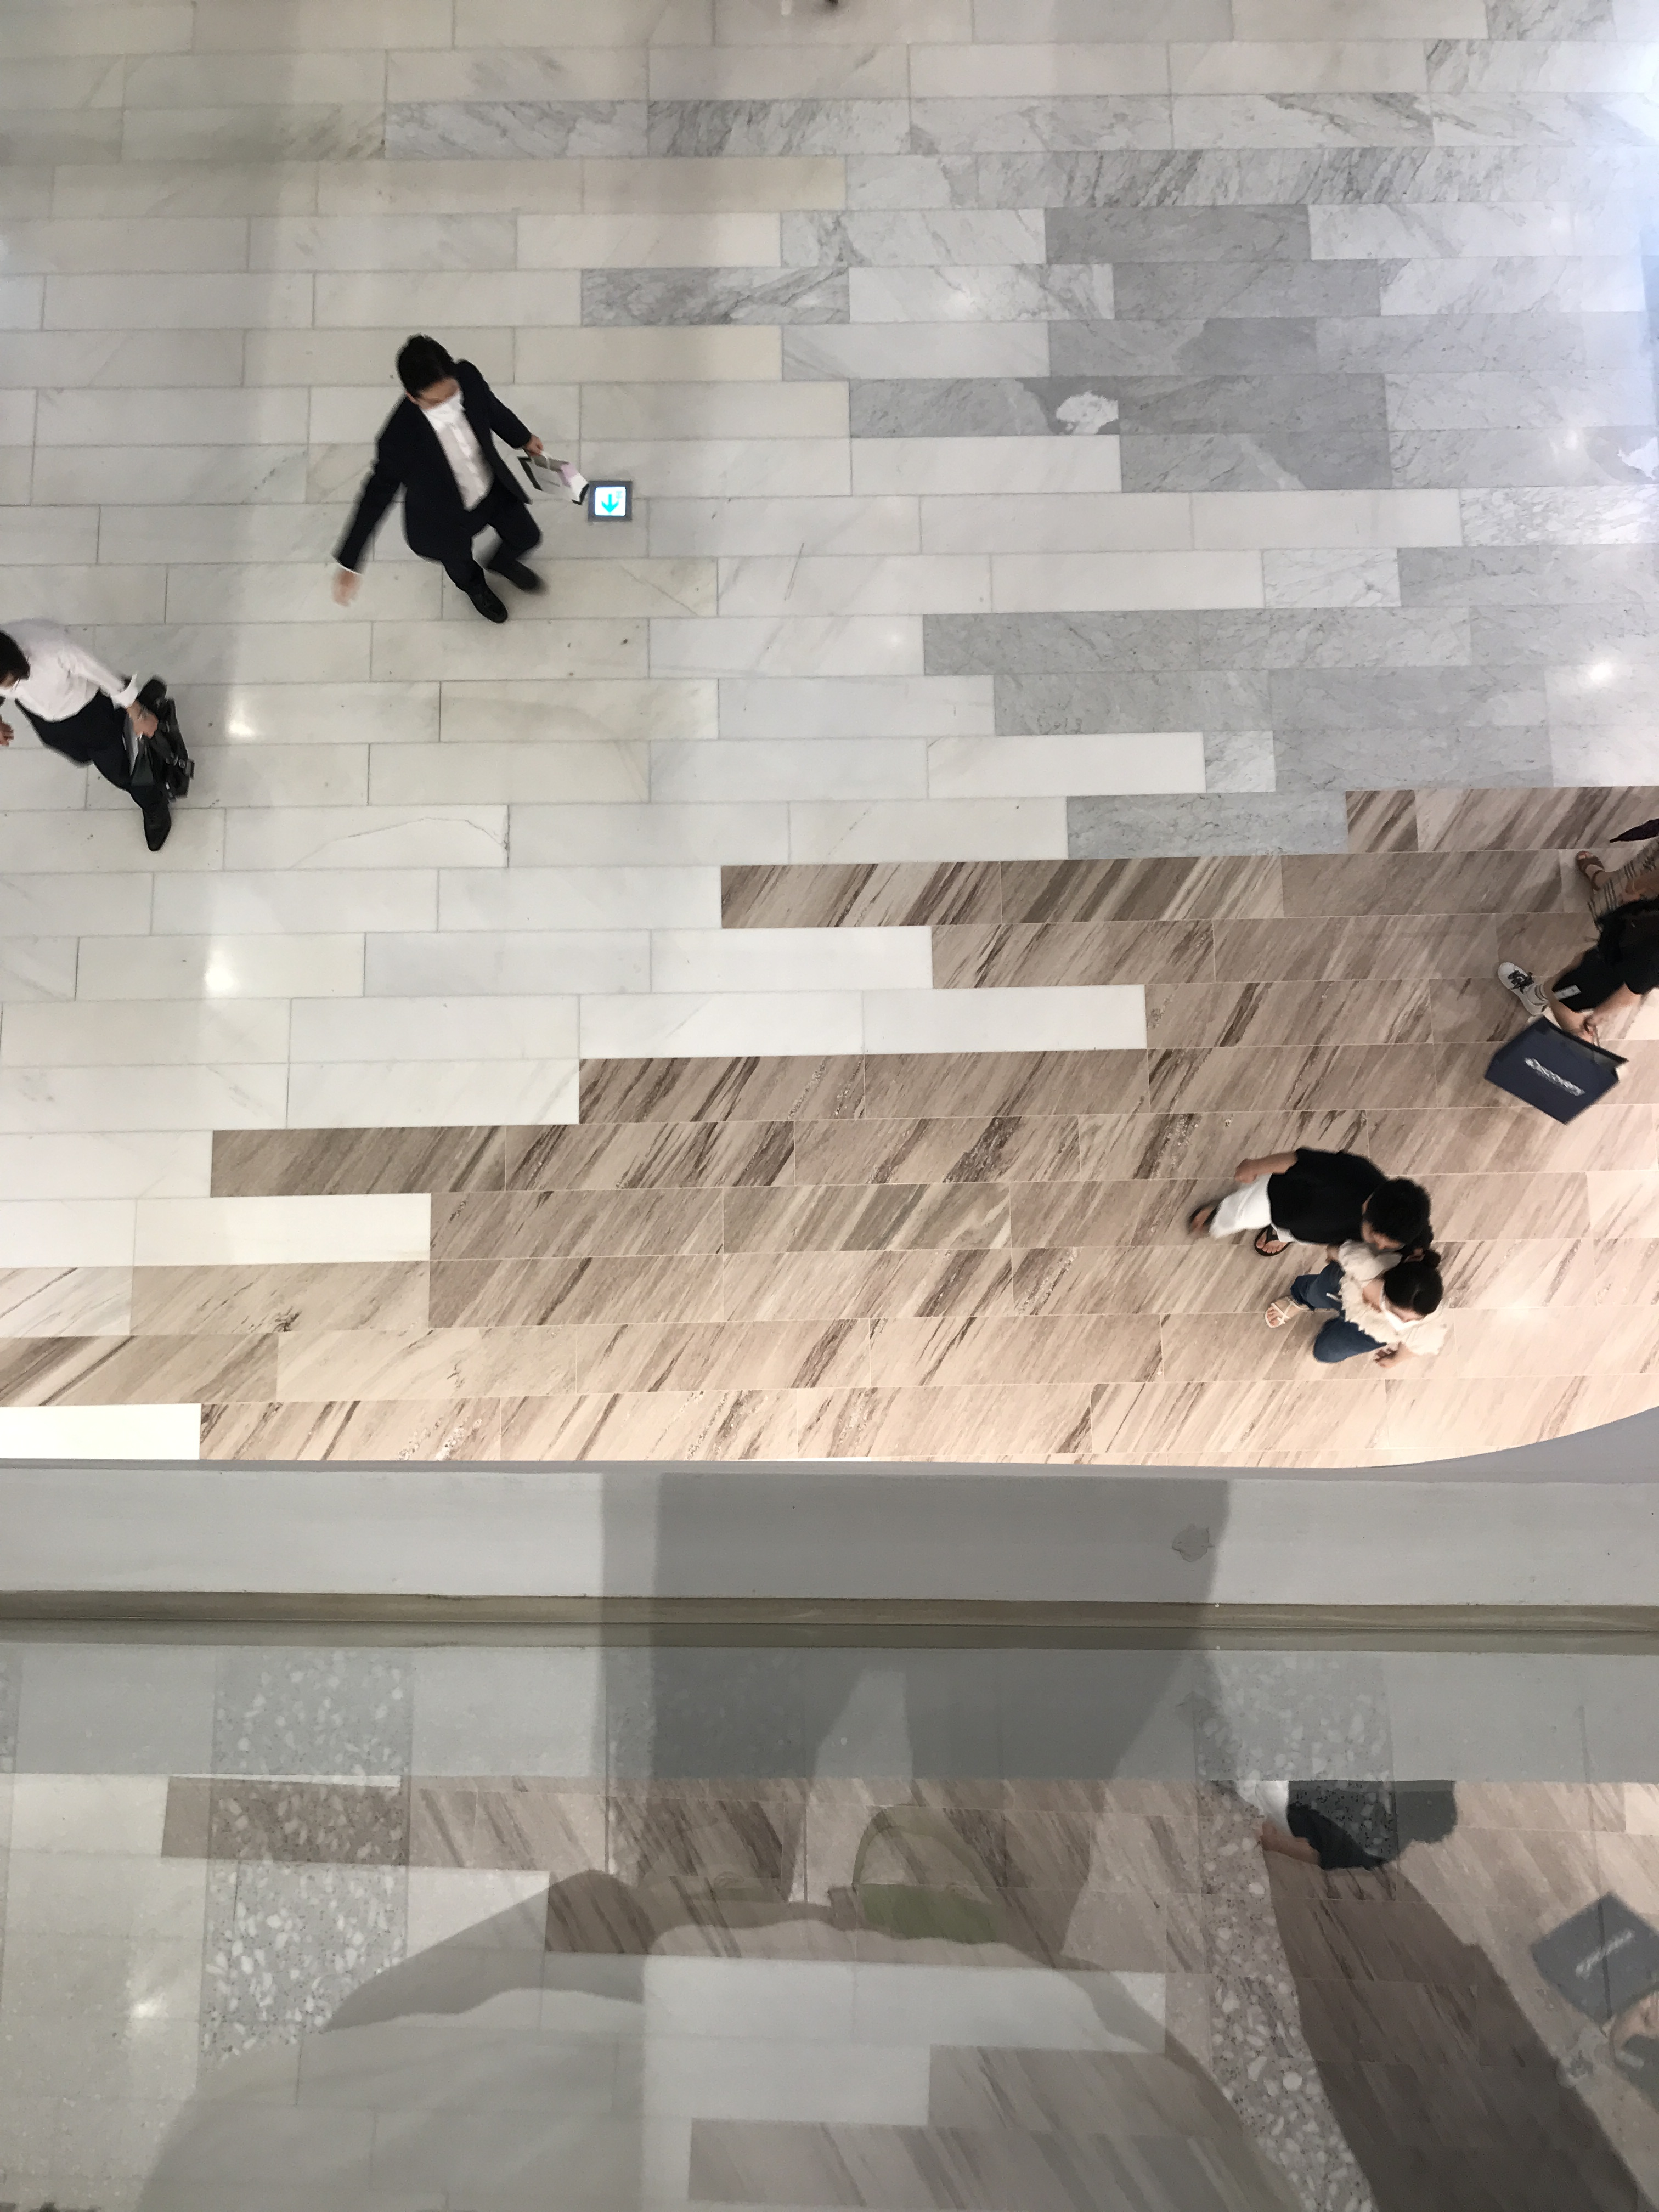person: (328, 334, 583, 630), (1, 614, 198, 856), (1188, 1145, 1435, 1255), (1266, 1237, 1453, 1371), (1493, 901, 1659, 1050), (1575, 822, 1659, 924)
